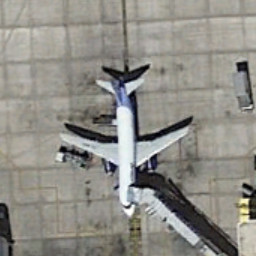Airplane: (62, 65, 195, 224)
